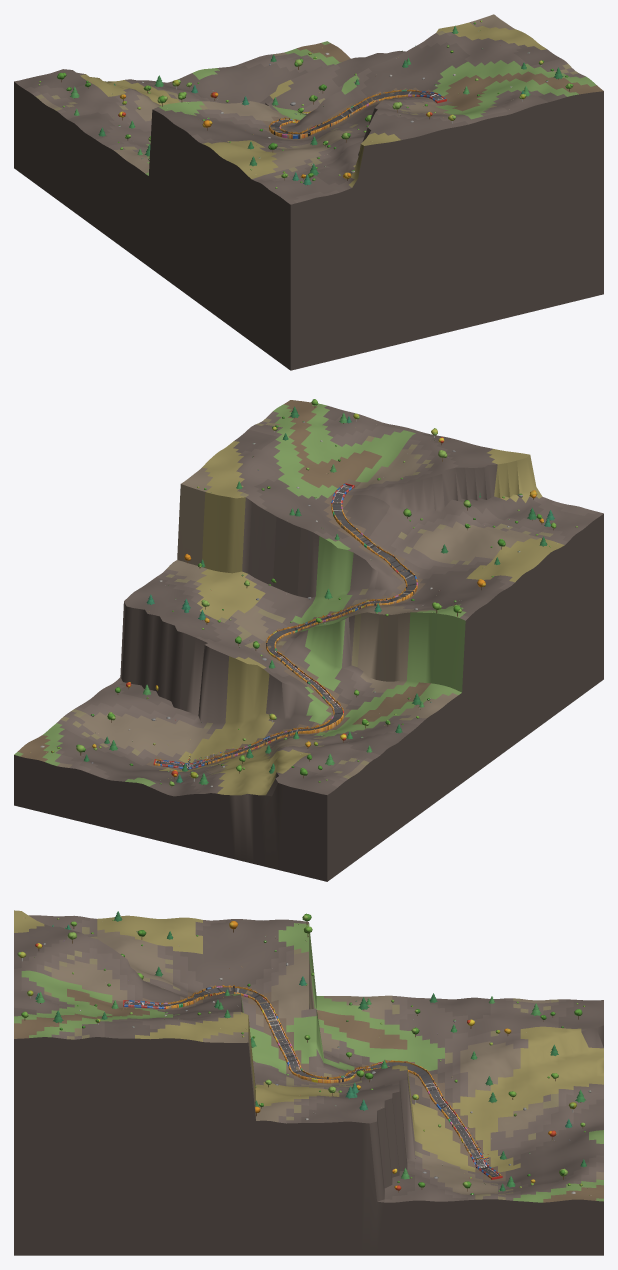
3 renders of one model, top to bottom at view 1: azimuth 30°, elevation 25°; view 2: azimuth 150°, elevation 25°; view 3: azimuth 270°, elevation 25°, orthographic. The views are drawn at different scales.
Visible parts, largest first — view 1: grass, hay, pines, leafy trees, road; view 2: grass, hay, road, pines, leafy trees; view 3: grass, road, hay, pines, leafy trees.
Boxes of the visible parts, x1=… form: grass: x1=14, y1=14, x2=603, y2=370; hay: x1=269, y1=89, x2=446, y2=138; pines: x1=70, y1=26, x2=563, y2=185; leafy trees: x1=57, y1=58, x2=573, y2=178; road: x1=270, y1=91, x2=443, y2=134; grass: x1=14, y1=400, x2=603, y2=881; hay: x1=153, y1=483, x2=417, y2=769; road: x1=155, y1=485, x2=416, y2=767; pines: x1=84, y1=406, x2=554, y2=784; leafy trees: x1=76, y1=399, x2=556, y2=786; grass: x1=14, y1=910, x2=603, y2=1255; road: x1=124, y1=987, x2=499, y2=1177; hay: x1=123, y1=985, x2=502, y2=1179; pines: x1=35, y1=911, x2=586, y2=1191; leafy trees: x1=17, y1=913, x2=585, y2=1188.
Size of the model in its own units: 255 by 170 by 390.
